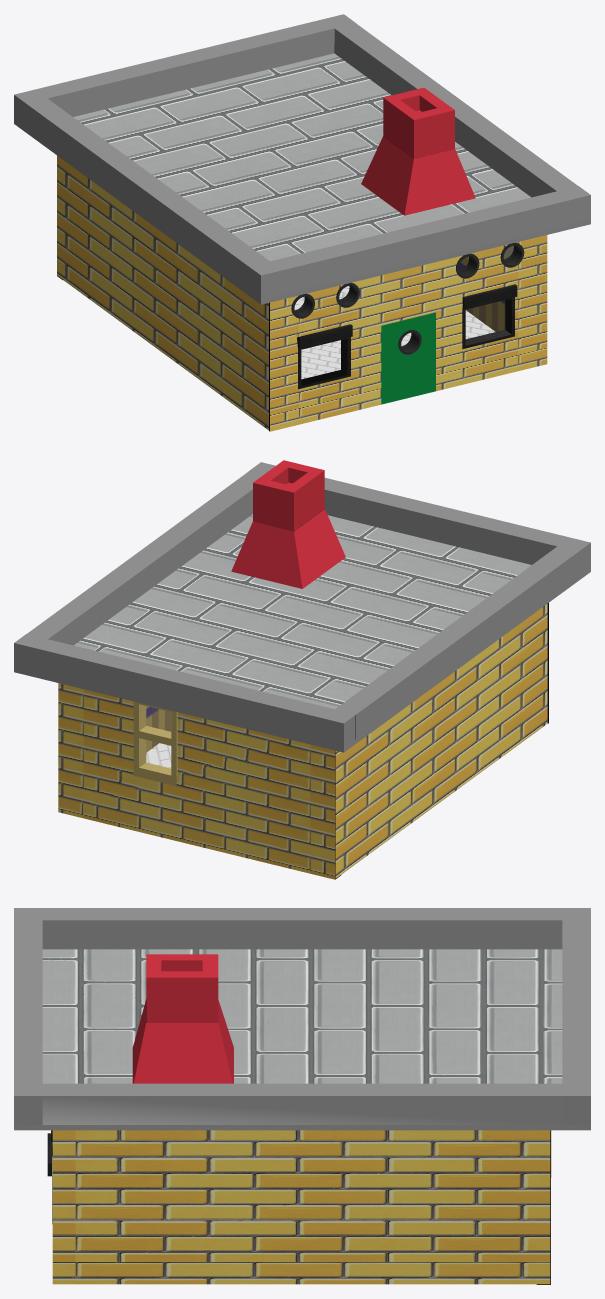
The model's file is Lab4.obj.
3 views of the same model, one above another, from view 1: azimuth 30°, elevation 25°; view 2: azimuth 150°, elevation 25°; view 3: azimuth 270°, elevation 25° (orthographic). The views are drawn at different scales.
Parts seen in each view (by area): view 1: oak_lab:oak_lab8:oak_lab:oak_lab:polySurface6; view 2: oak_lab:oak_lab8:oak_lab:oak_lab:polySurface6; view 3: oak_lab:oak_lab8:oak_lab:oak_lab:polySurface6.
Boxes of the visible parts, x1,y1,x2,y2 form: oak_lab:oak_lab8:oak_lab:oak_lab:polySurface6: [14, 14, 590, 431]; oak_lab:oak_lab8:oak_lab:oak_lab:polySurface6: [14, 460, 590, 879]; oak_lab:oak_lab8:oak_lab:oak_lab:polySurface6: [14, 908, 590, 1284].
Size of the model in its own units: 28.74 by 19.79 by 37.27.
